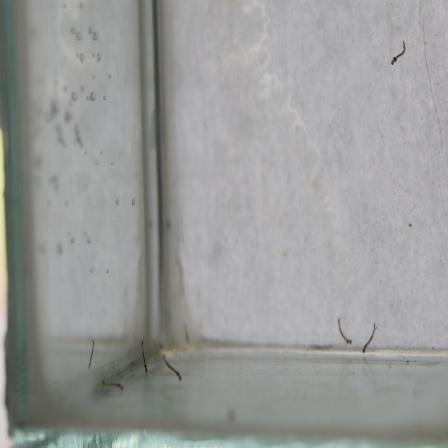Jentik-Nyamuk: (158, 352, 185, 382), (359, 319, 380, 354), (333, 317, 355, 347), (388, 39, 408, 67), (137, 338, 151, 376), (98, 377, 125, 396)
